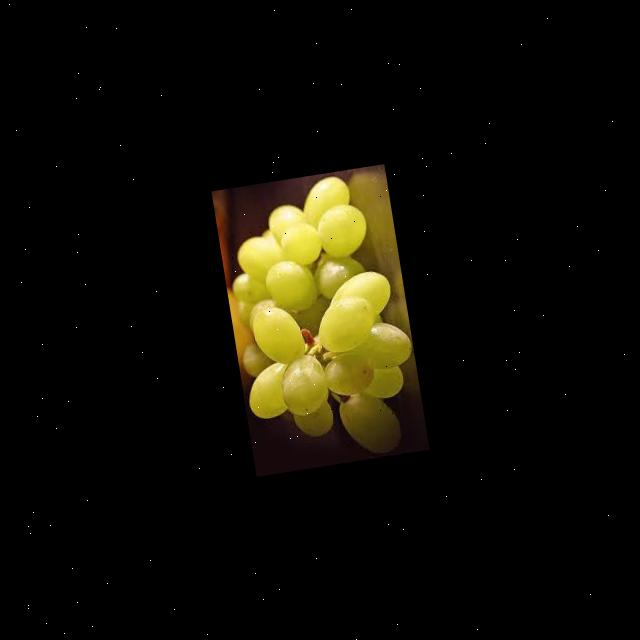grape: (212, 168, 426, 474)
